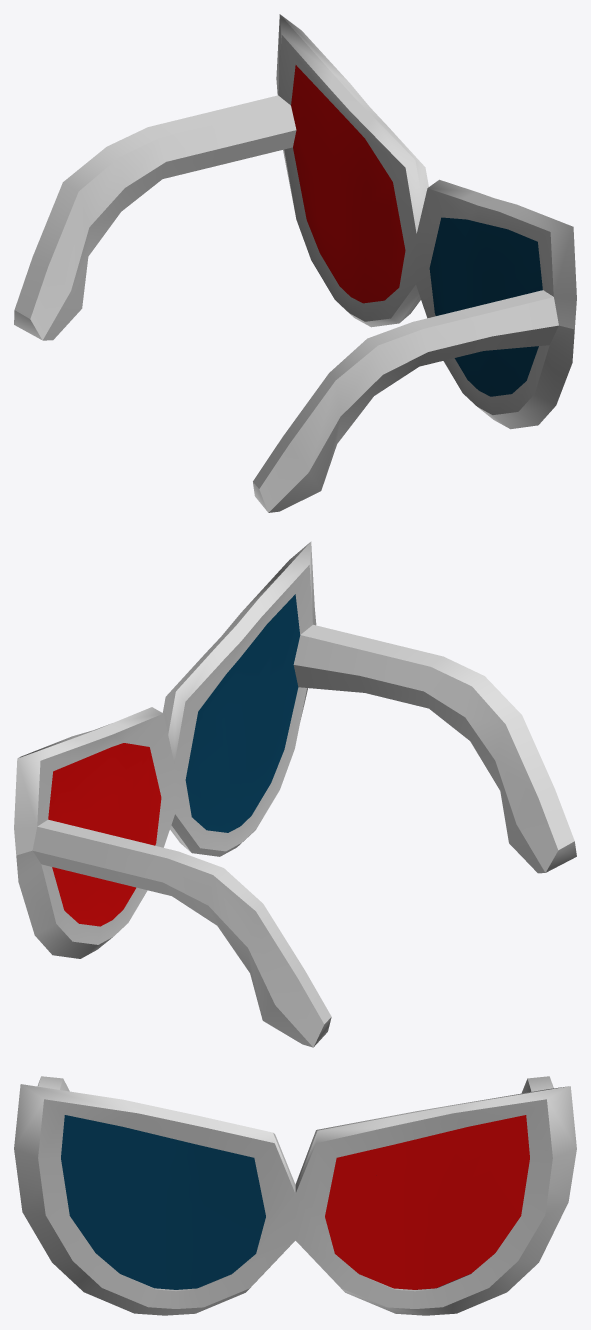
Rendered from Shades.fbx.
3 renders of one model, top to bottom at view 1: azimuth 30°, elevation 25°; view 2: azimuth 150°, elevation 25°; view 3: azimuth 270°, elevation 25°, orthographic. The views are drawn at different scales.
Parts seen in each view (by area): view 1: pCube1; view 2: pCube1; view 3: pCube1.
Part boxes in pixels (x1=…): pCube1: x1=14, y1=14, x2=576, y2=512; pCube1: x1=14, y1=541, x2=576, y2=1047; pCube1: x1=14, y1=1076, x2=576, y2=1315.
Bounding box in the file's own units: 1.61 × 1.28 × 2.8.
